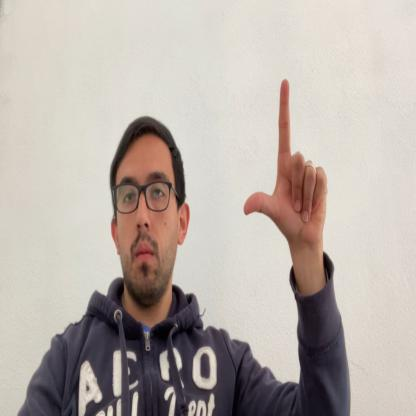L: (244, 78, 328, 253)
